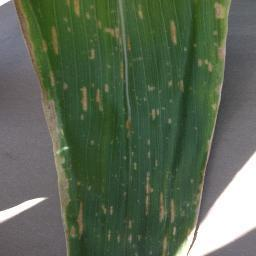Gray_Leaf_Spot: (206, 0, 234, 177), (36, 95, 77, 201), (8, 2, 45, 90), (42, 197, 91, 239), (183, 174, 207, 256), (114, 216, 163, 256), (114, 20, 137, 81), (159, 189, 178, 256), (78, 84, 110, 117), (141, 174, 157, 217), (49, 20, 66, 59), (66, 0, 102, 18), (94, 16, 116, 40), (116, 151, 141, 171), (166, 77, 190, 97), (123, 117, 143, 140), (168, 21, 182, 47), (96, 203, 120, 218), (72, 179, 97, 193), (194, 55, 210, 72), (179, 44, 203, 55), (49, 67, 61, 88), (136, 6, 151, 22), (58, 80, 74, 92), (87, 44, 98, 61), (149, 107, 161, 122), (148, 138, 154, 167), (145, 83, 158, 94), (106, 227, 114, 243), (166, 116, 175, 126), (193, 125, 203, 134), (122, 184, 128, 198), (89, 139, 98, 147)
